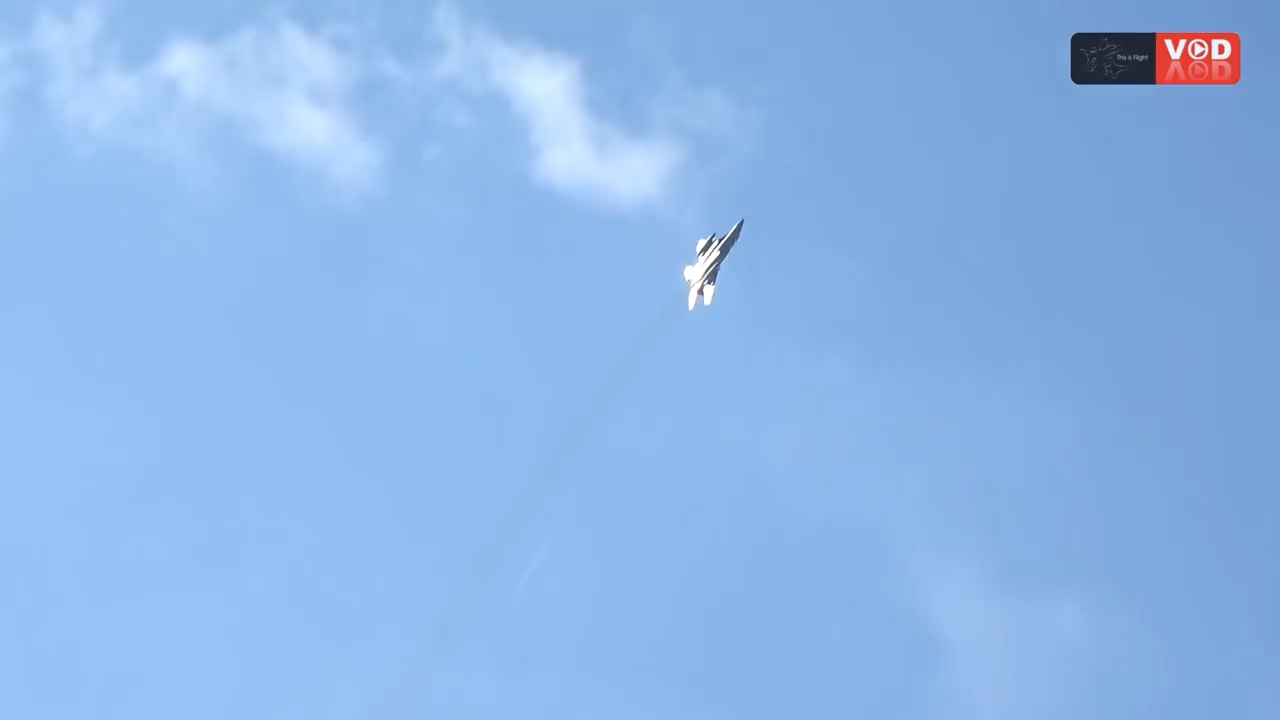f15: (682, 216, 747, 315)
